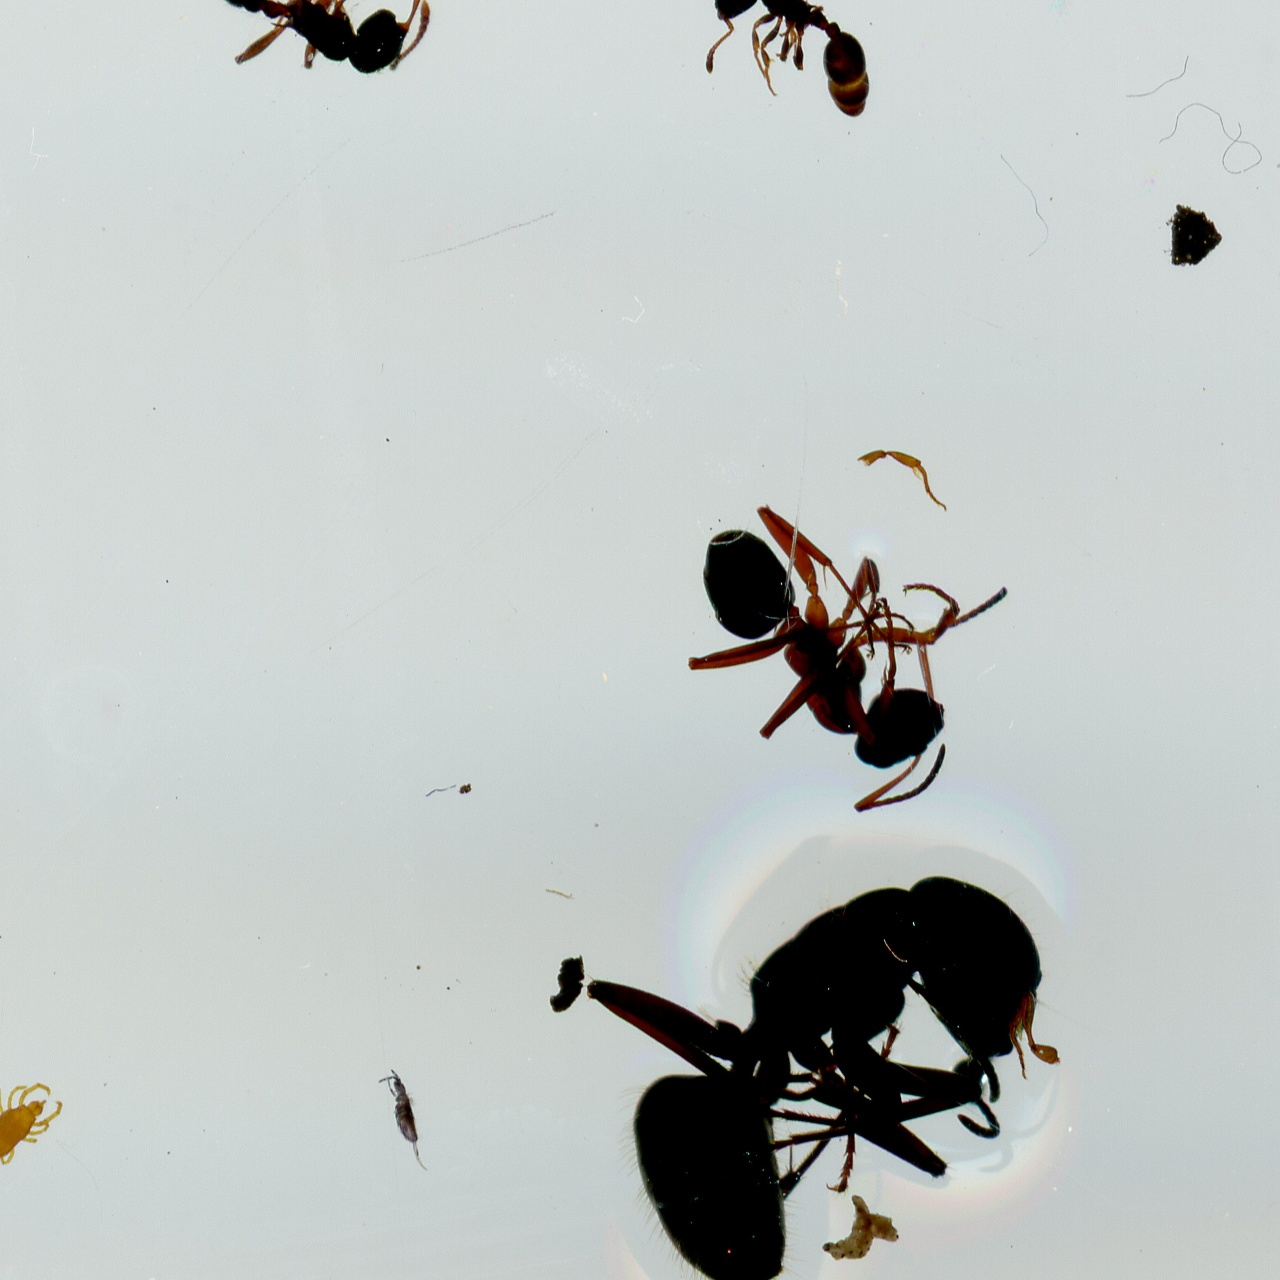arthropod: (578, 867, 1074, 1280), (679, 499, 1013, 818), (211, 0, 473, 82), (702, 0, 874, 121), (370, 1059, 438, 1184), (0, 1080, 66, 1170)
